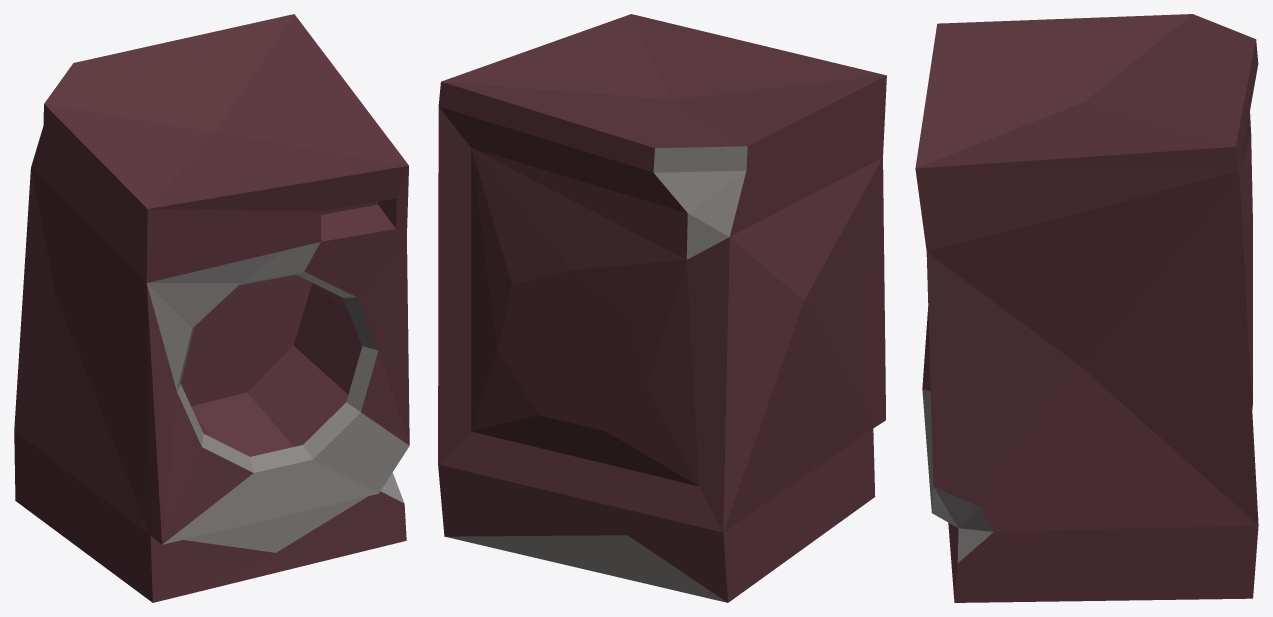
Rendered from washing-machine-apocalypse.fbx.
3 views of the same model, side by side, from view 1: azimuth 30°, elevation 25°; view 2: azimuth 150°, elevation 25°; view 3: azimuth 270°, elevation 25° (orthographic). The views are drawn at different scales.
Visible parts, largest first — view 1: washing-machine-apocalypse; view 2: washing-machine-apocalypse; view 3: washing-machine-apocalypse.
Boxes of the visible parts, x1,y1,x2,y2 form: washing-machine-apocalypse: (14,14,409,602); washing-machine-apocalypse: (438,14,886,602); washing-machine-apocalypse: (915,14,1258,602).
Size of the model in its own units: 0.6736 by 0.9455 by 0.6321.
